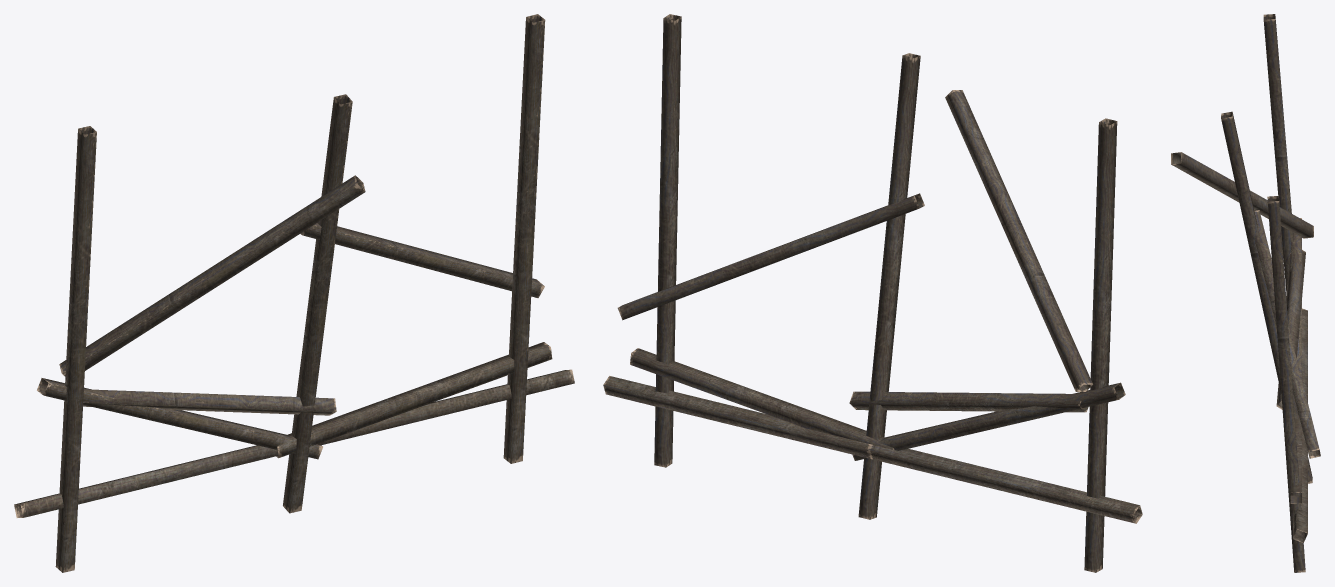
File: Scaffolding_WallBroken.fbx
3 views of the same model, side by side, from view 1: azimuth 30°, elevation 25°; view 2: azimuth 150°, elevation 25°; view 3: azimuth 270°, elevation 25° (orthographic). The views are drawn at different scales.
Parts seen in each view (by area): view 1: CDTMesh_Scaffolding_WallBroken_LOD; view 2: CDTMesh_Scaffolding_WallBroken_LOD; view 3: CDTMesh_Scaffolding_WallBroken_LOD.
Boxes of the visible parts, <box> form: CDTMesh_Scaffolding_WallBroken_LOD: <box>14,14,574,572</box>; CDTMesh_Scaffolding_WallBroken_LOD: <box>603,14,1142,572</box>; CDTMesh_Scaffolding_WallBroken_LOD: <box>1171,14,1320,572</box>.
Size of what is drawn, in the model's own units: 9.44 by 7.39 by 2.68.
